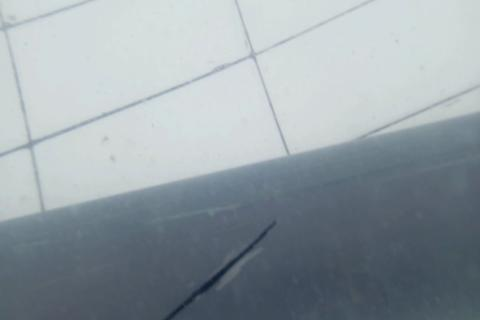keretakan: (164, 218, 277, 320)
